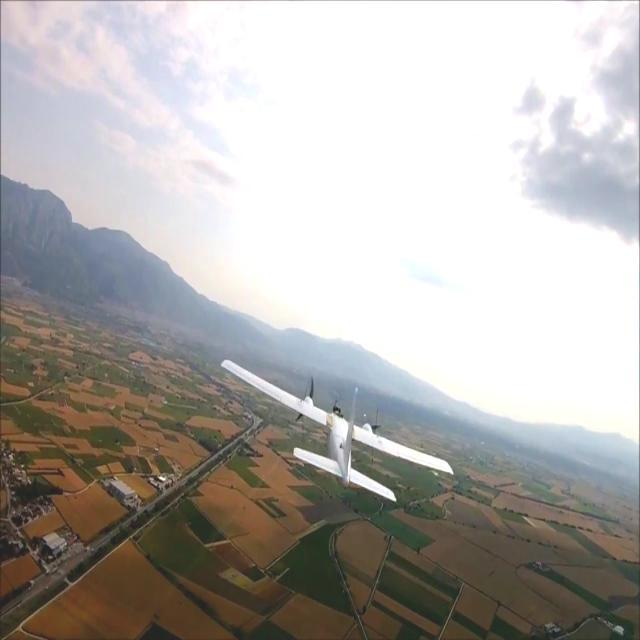iha: (203, 337, 463, 524)
